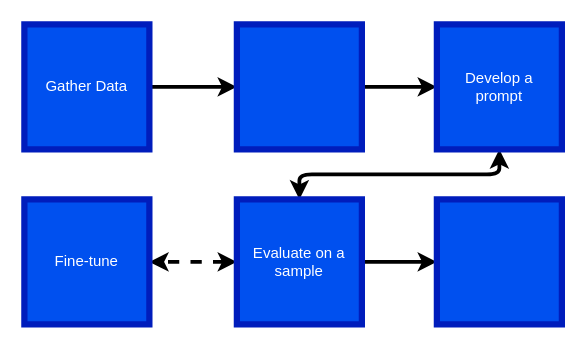
Some shapes in this 586 by 349 pixel diagram are drawn without their labels. Each missing label, with the box of its shape:
Deploy: (433, 196, 564, 327)
Specify what information to extract: (233, 21, 364, 152)
